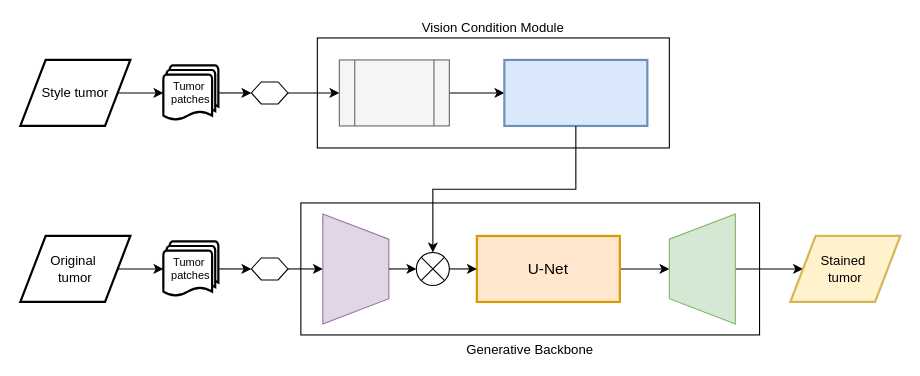
The diagram is 920 pixels wide and 376 high, and some of its shapes have lost their labels. Each missing label, with the centre of its shape:
CLIP: point 393,92
VAE Decoder: point 701,268
VAE Encoder: point 355,268
Vision Language Projector: point 575,92
